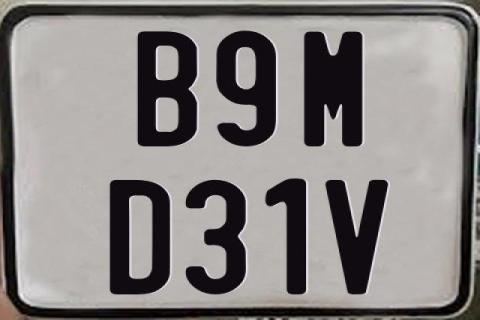0: (216, 29, 281, 147), (183, 178, 248, 294), (265, 178, 312, 298)
B: (137, 29, 197, 145)
D: (110, 180, 172, 298)
M: (303, 29, 367, 150)
V: (324, 180, 390, 298)
